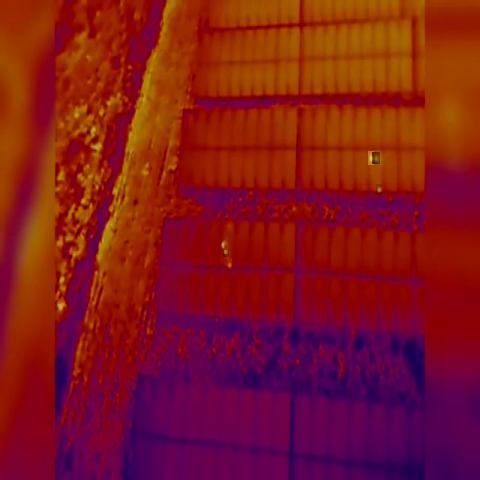fault: (372, 152, 380, 164), (368, 151, 374, 165), (220, 239, 226, 251), (376, 184, 382, 195), (228, 259, 232, 270), (223, 250, 229, 257)
